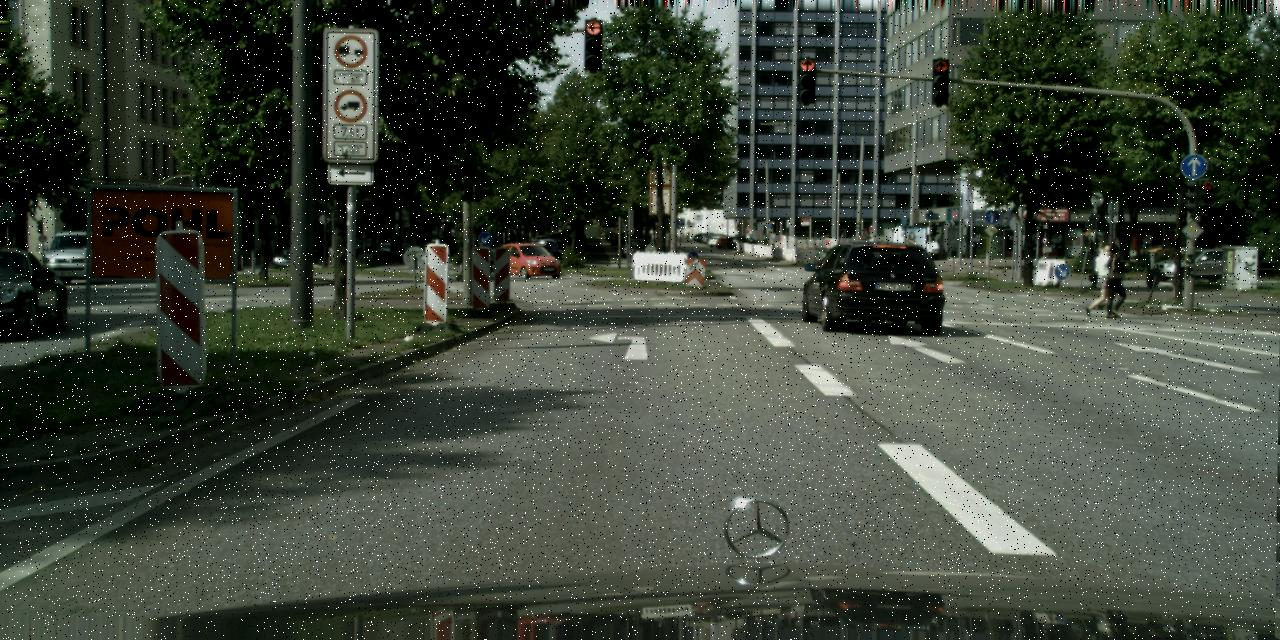ped: (1099, 243, 1129, 317), (1090, 245, 1118, 314), (684, 234, 686, 240)
